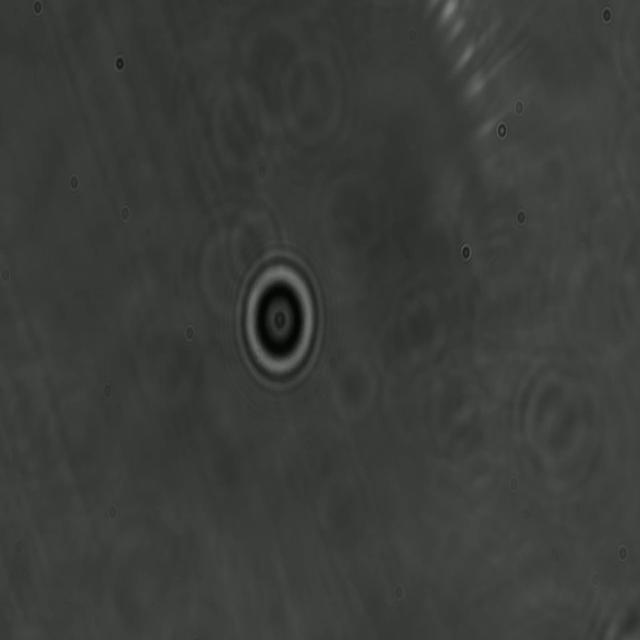LCELL: (234, 244, 327, 393)
